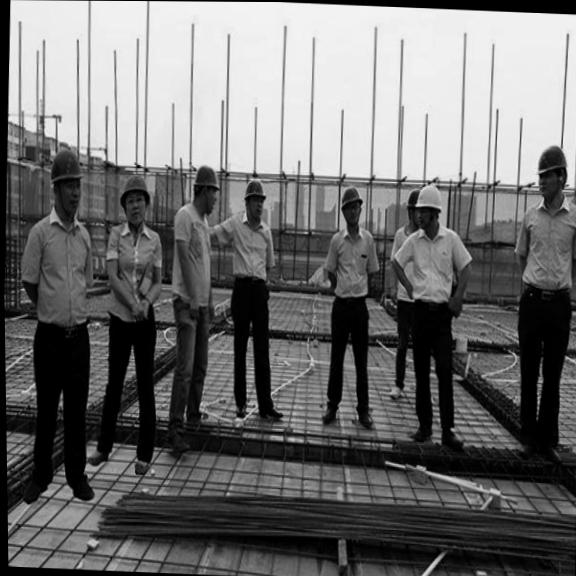no_safety_vest: (17, 209, 102, 338), (389, 224, 476, 310), (99, 218, 168, 324), (511, 198, 576, 298), (166, 200, 219, 314), (320, 222, 383, 306), (224, 207, 280, 286)
